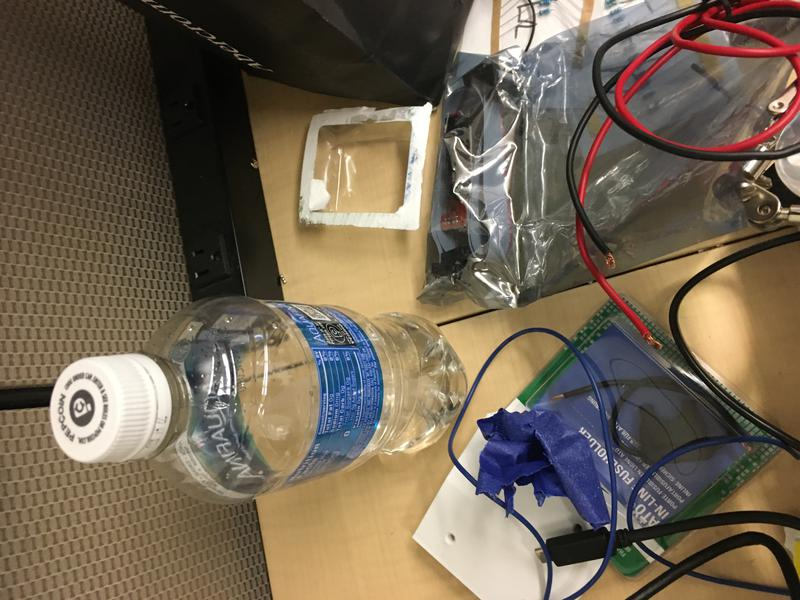bottle: (48, 295, 470, 512)
